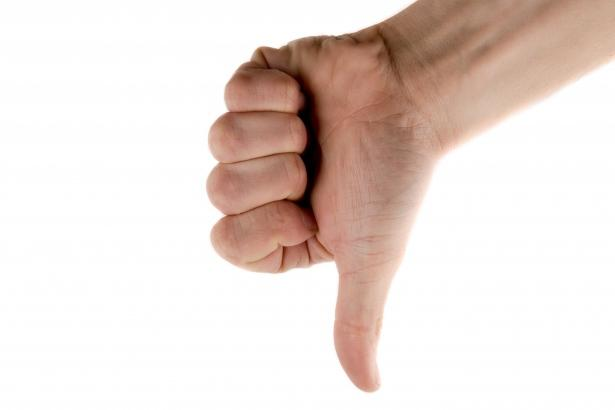thumbsdown: (205, 38, 383, 395)
